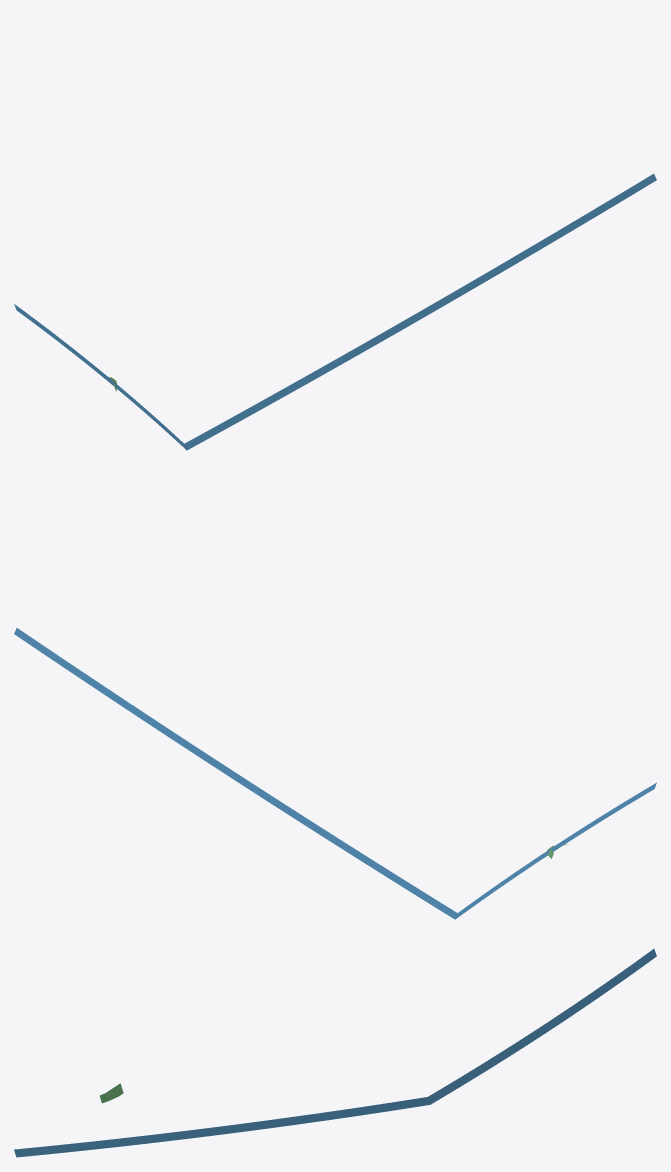
3 views of the same model, one above another, from view 1: azimuth 30°, elevation 25°; view 2: azimuth 150°, elevation 25°; view 3: azimuth 330°, elevation 25° (orthographic).
Parts seen in each view (by area): view 1: geometry_1; view 2: geometry_1; view 3: geometry_1.
Part boxes in pixels (<box>): geometry_1: <box>14,173,656,450</box>; geometry_1: <box>14,628,656,919</box>; geometry_1: <box>14,948,656,1157</box>.
Bounding box in the file's own units: 304694 × 118576 × 239929.
